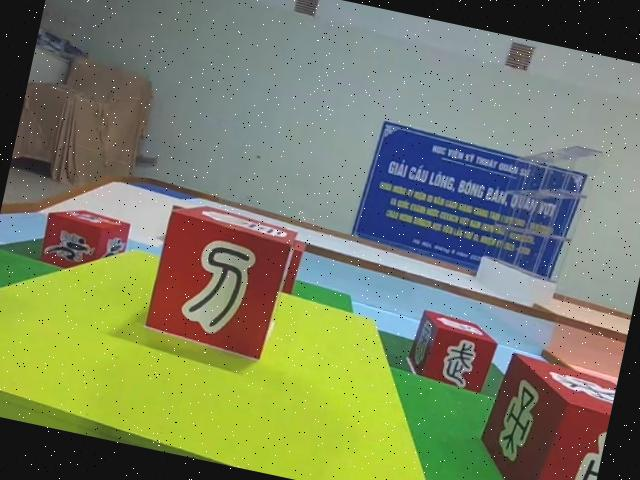R1: (30, 200, 131, 280)
R2 Fake: (140, 194, 299, 365), (400, 303, 502, 397)
R2 Real: (465, 346, 619, 480)
